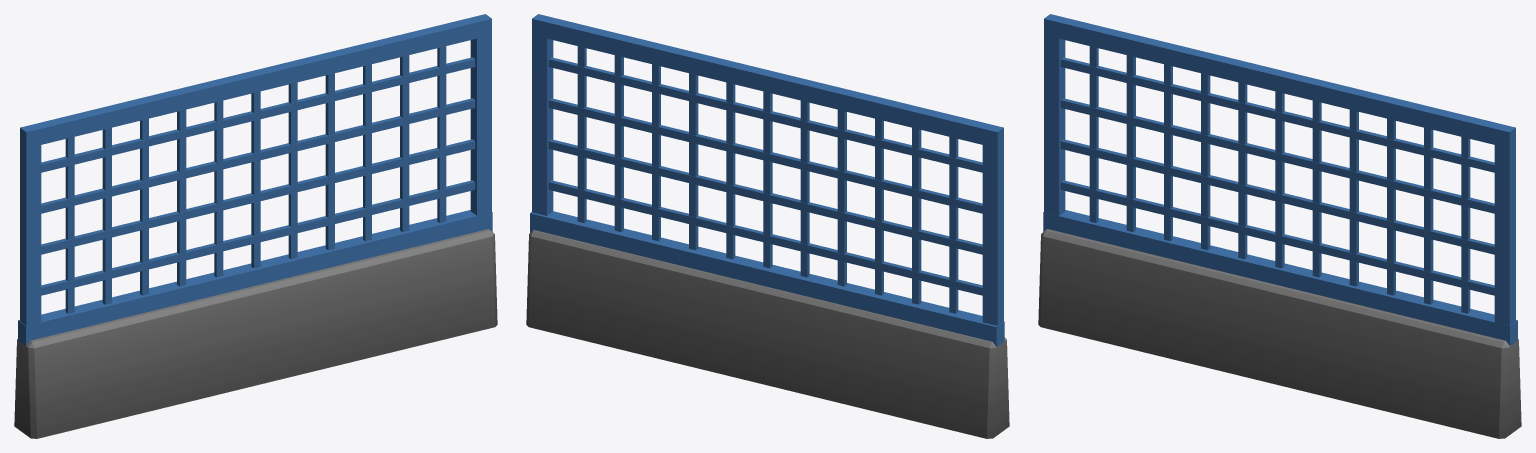
Rendered from Fence_1_D_4.fbx.
3 renders of one model, left to right at view 1: azimuth 30°, elevation 25°; view 2: azimuth 150°, elevation 25°; view 3: azimuth 330°, elevation 25°, orthographic.
Parts seen in each view (by area): view 1: Fence_1_D_4; view 2: Fence_1_D_4; view 3: Fence_1_D_4.
Part boxes in pixels (x1,y1,x2,y2): Fence_1_D_4: (14, 14, 497, 438); Fence_1_D_4: (526, 14, 1009, 438); Fence_1_D_4: (1038, 14, 1521, 438).
Size of the model in its own units: 400 by 248 by 30.52.
